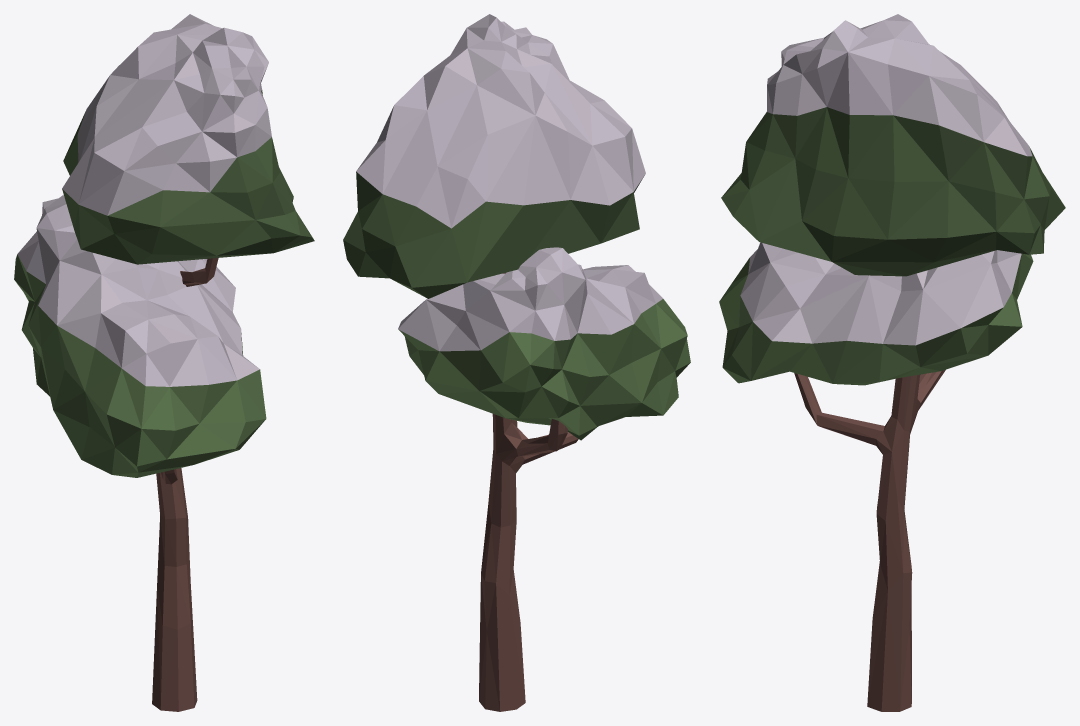
Rendered from CommonTree_Snow_3.lod1.glb.
3 renders of one model, left to right at view 1: azimuth 30°, elevation 25°; view 2: azimuth 150°, elevation 25°; view 3: azimuth 270°, elevation 25°, orthographic. The views are drawn at different scales.
Parts seen in each view (by area): view 1: CommonTree_Snow_3; view 2: CommonTree_Snow_3; view 3: CommonTree_Snow_3.
Boxes of the visible parts, x1,y1,x2,y2 form: CommonTree_Snow_3: (14,14,314,711); CommonTree_Snow_3: (343,14,690,711); CommonTree_Snow_3: (719,14,1065,711).
Size of the model in its own units: 1.28 by 3.47 by 1.56.
